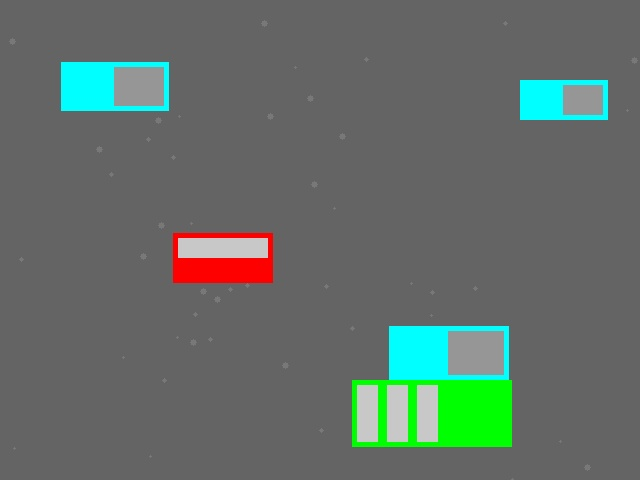bus: (352, 380, 511, 446)
car: (173, 233, 272, 282)
truck: (389, 326, 508, 379), (61, 62, 168, 110), (520, 80, 607, 119)
